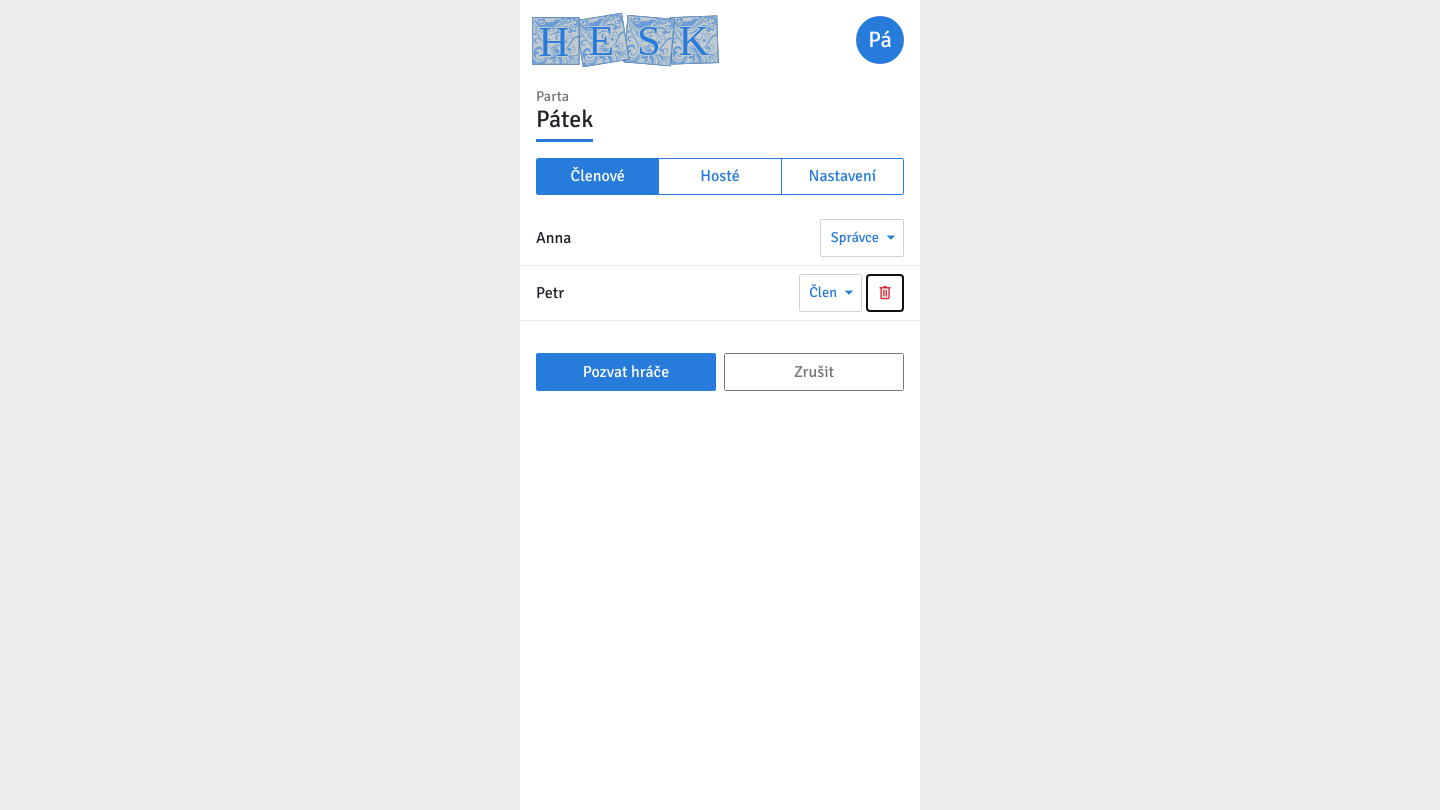
Test: party detail (/parties/:id) › cancelling the popup (button, cross, Escape) removes nobody
Click the button named "Odebrat Petr" at (885, 293), box left=866, top=274, right=904, bottom=312
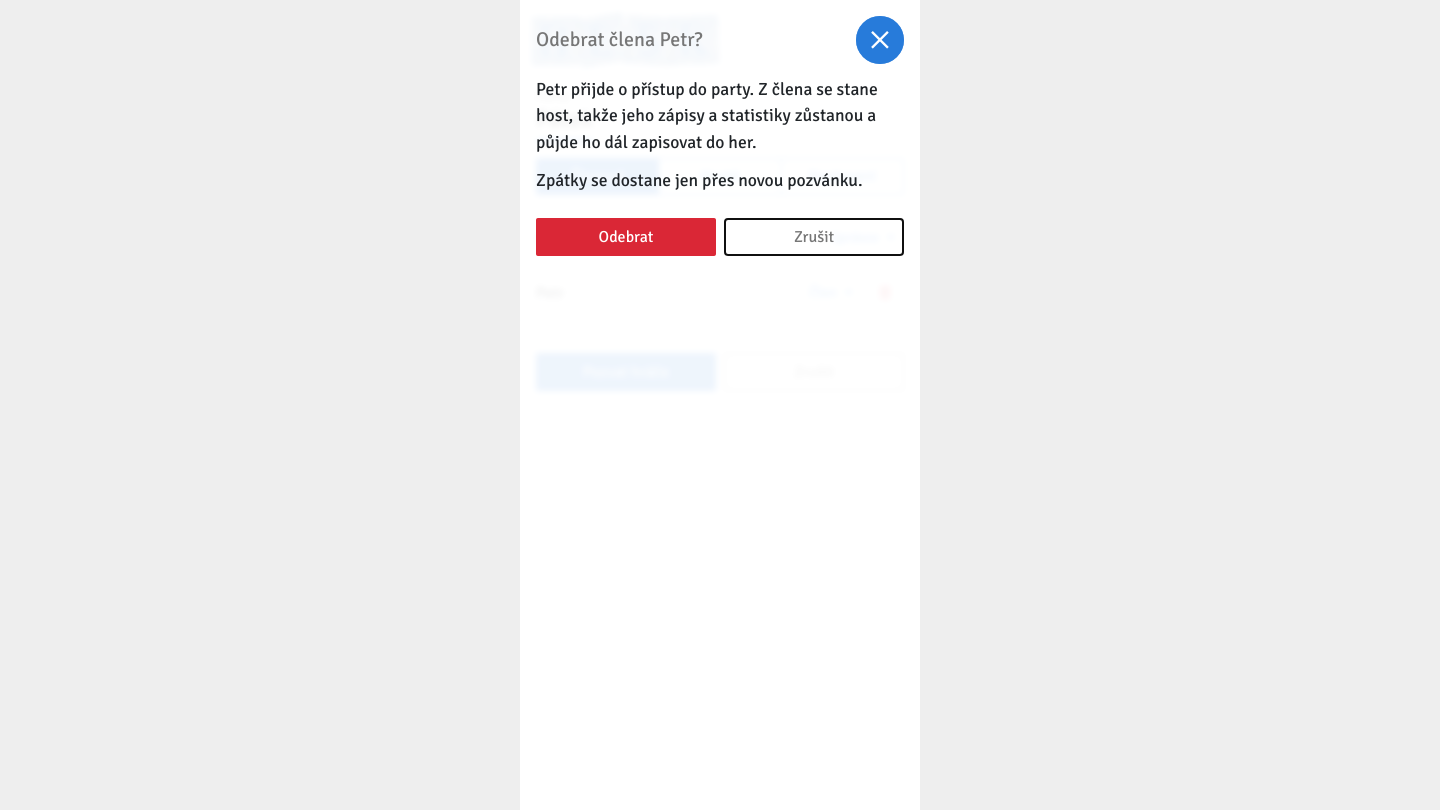
Click the button "Zrušit" at (814, 237), box left=724, top=218, right=904, bottom=256
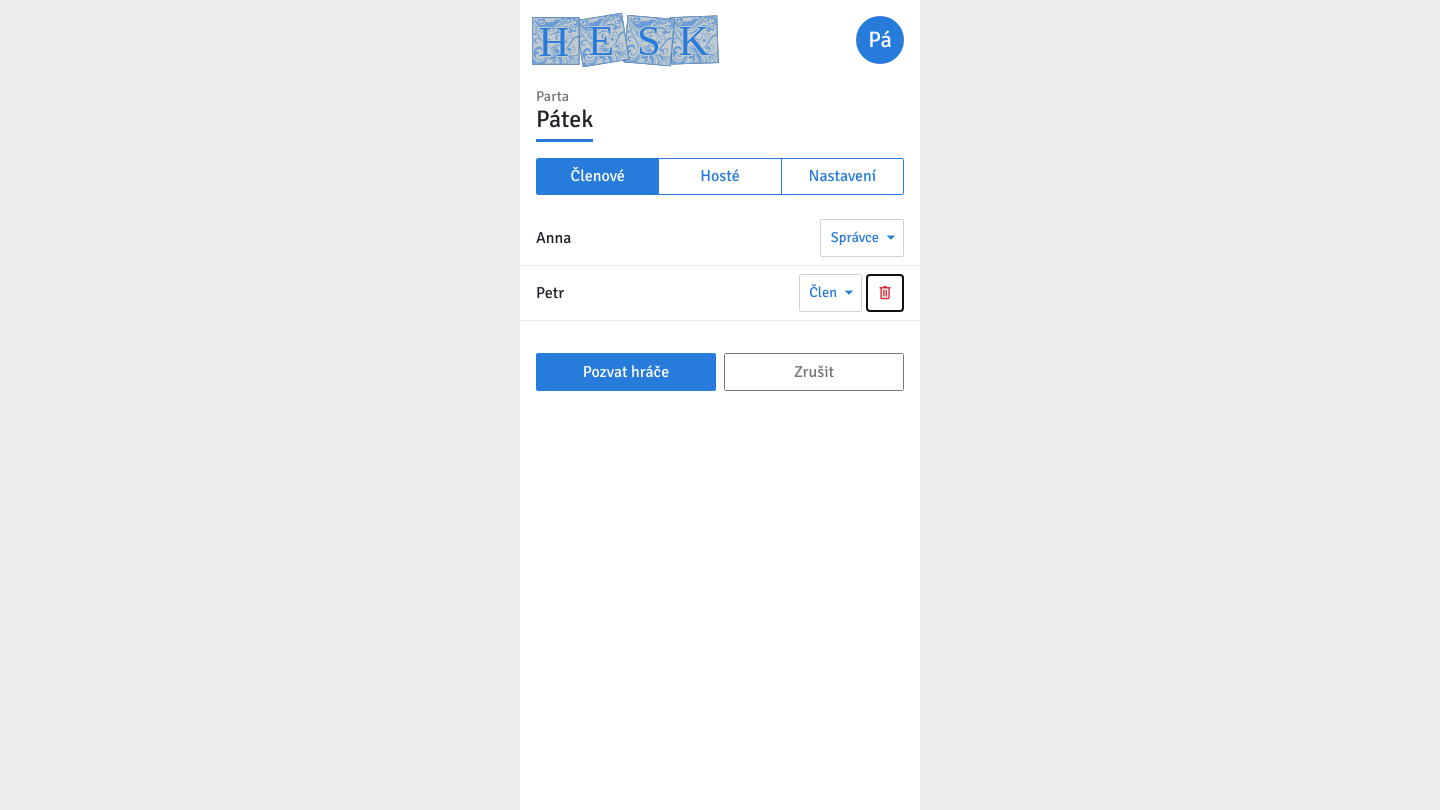
Expected: the dialog is gone
Click the button named "Odebrat Petr" at (885, 293), box left=866, top=274, right=904, bottom=312
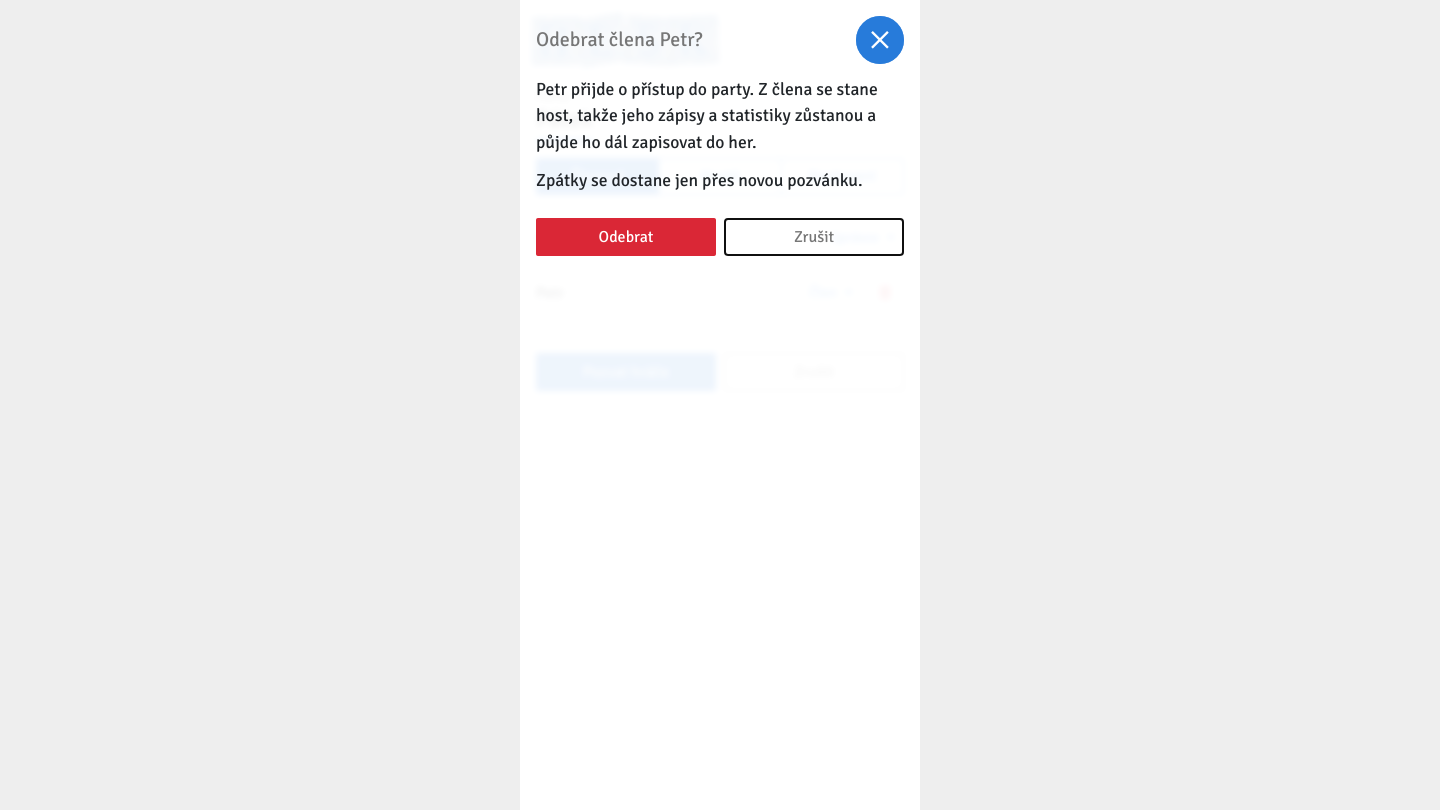
Click the button named "Zavřít" at (880, 40), box left=856, top=16, right=904, bottom=64
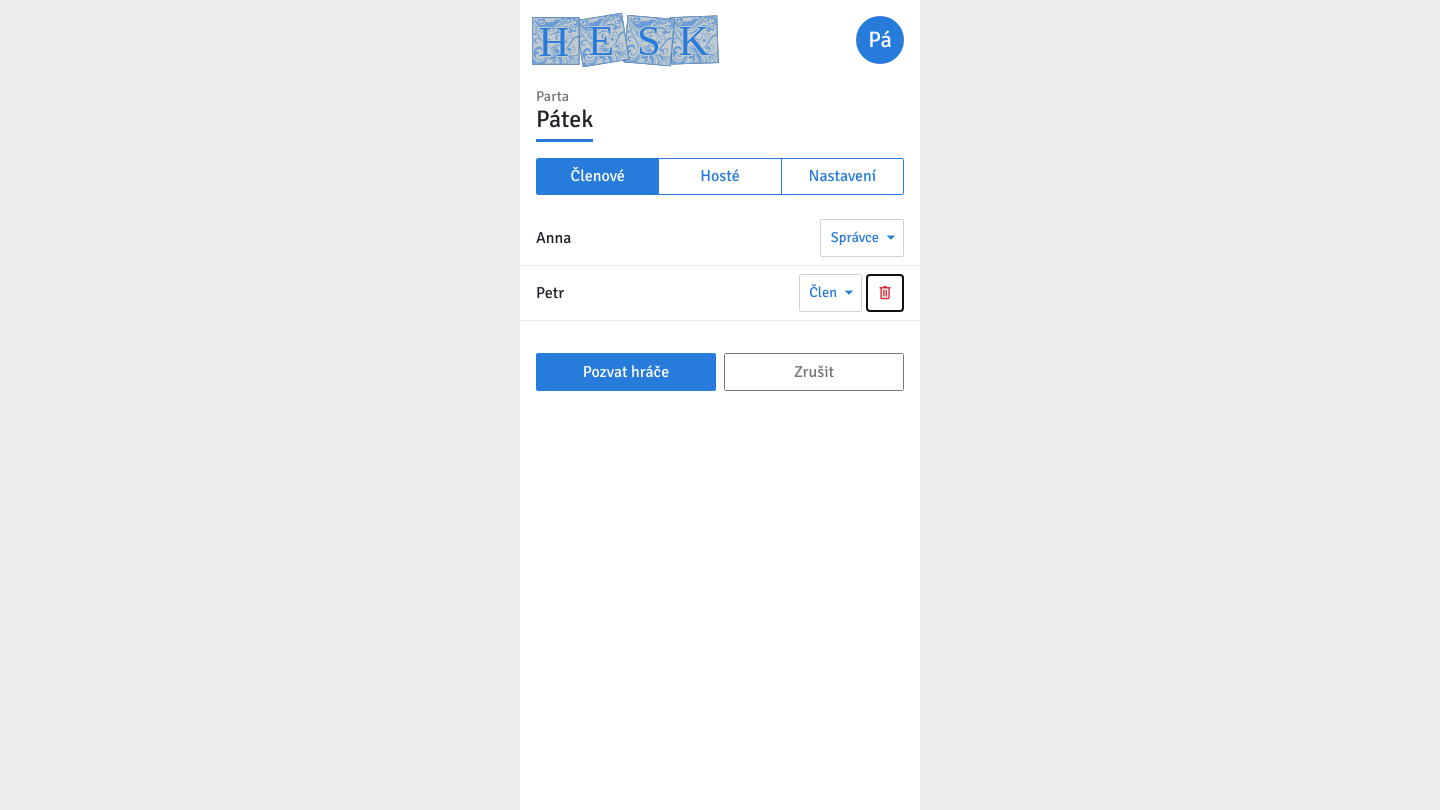
Expected: the dialog is gone
Click the button named "Odebrat Petr" at (885, 293), box left=866, top=274, right=904, bottom=312
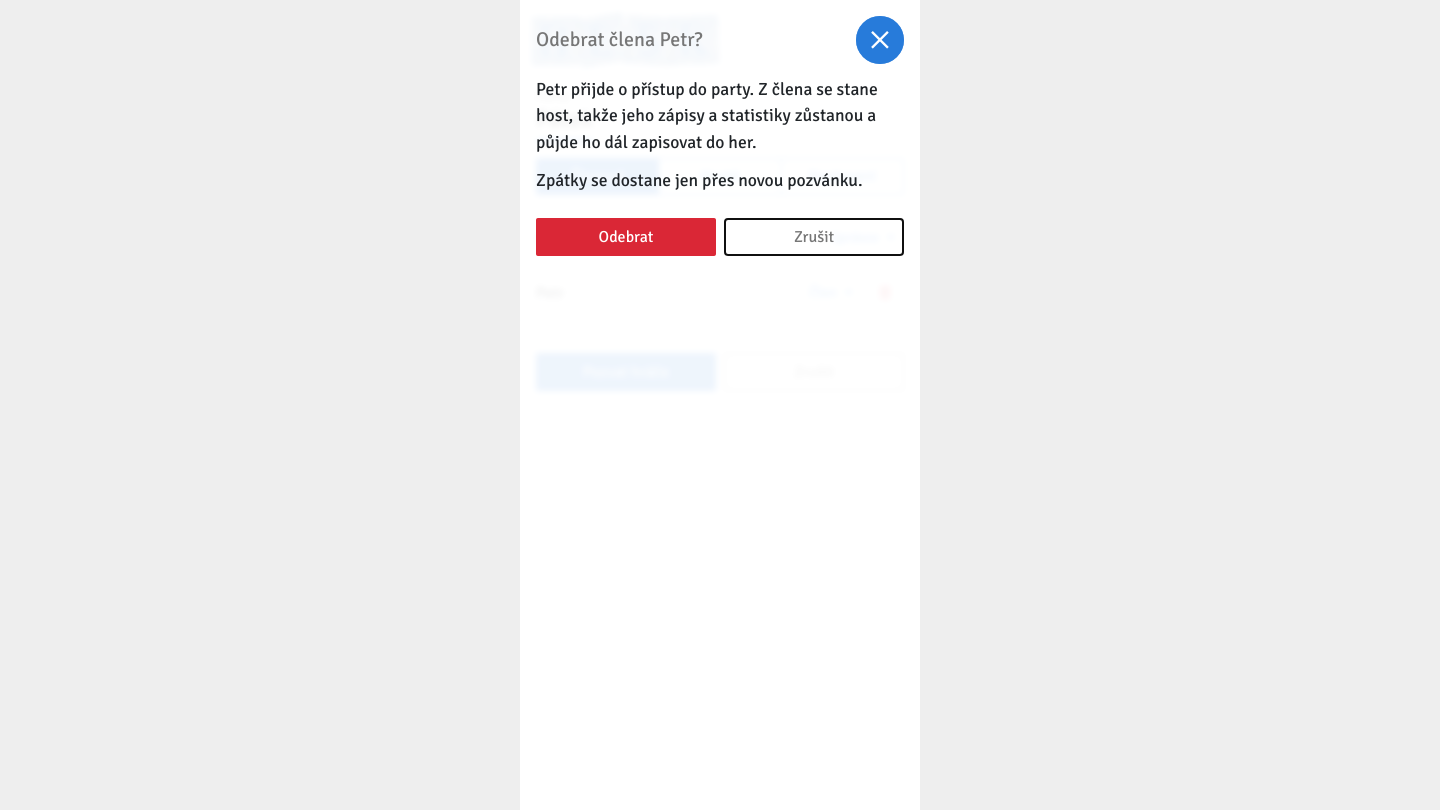
Press Escape in the dialog, box left=520, top=0, right=920, bottom=809
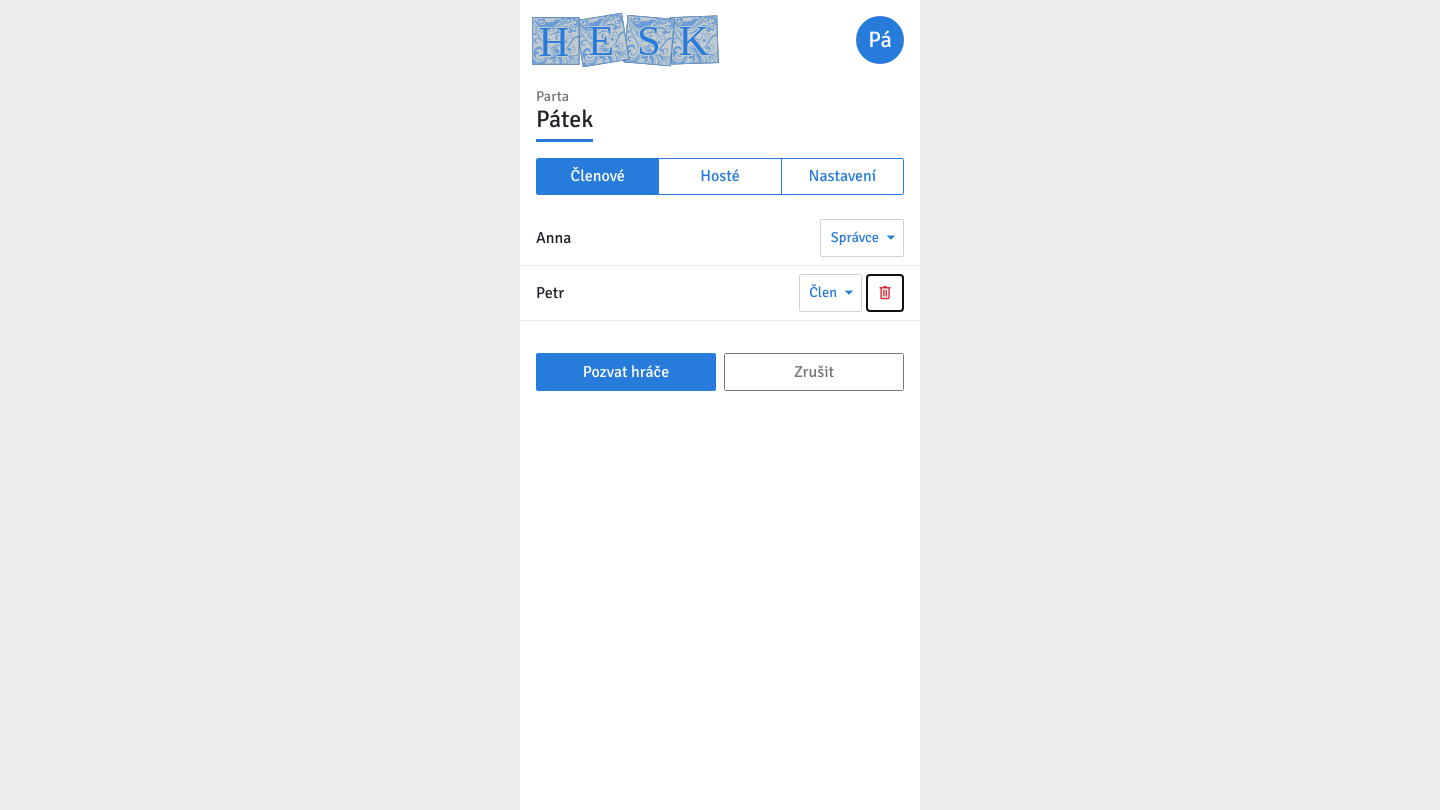
Expected: the dialog is gone
